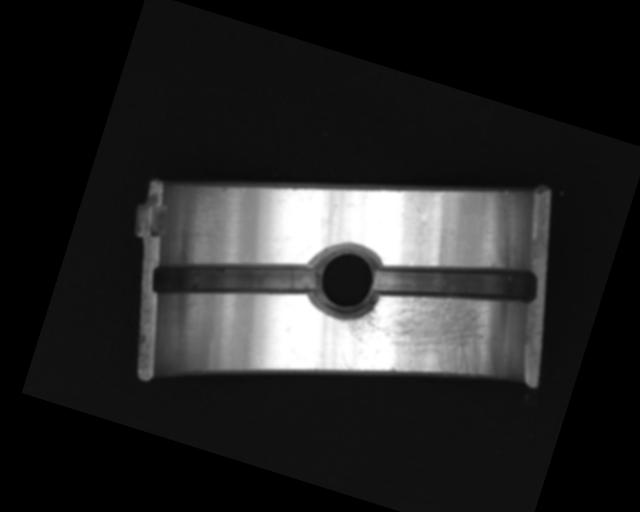gap: (147, 220, 321, 336), (367, 226, 542, 340)
hole: (298, 231, 392, 328)
scratch: (334, 257, 516, 415)
